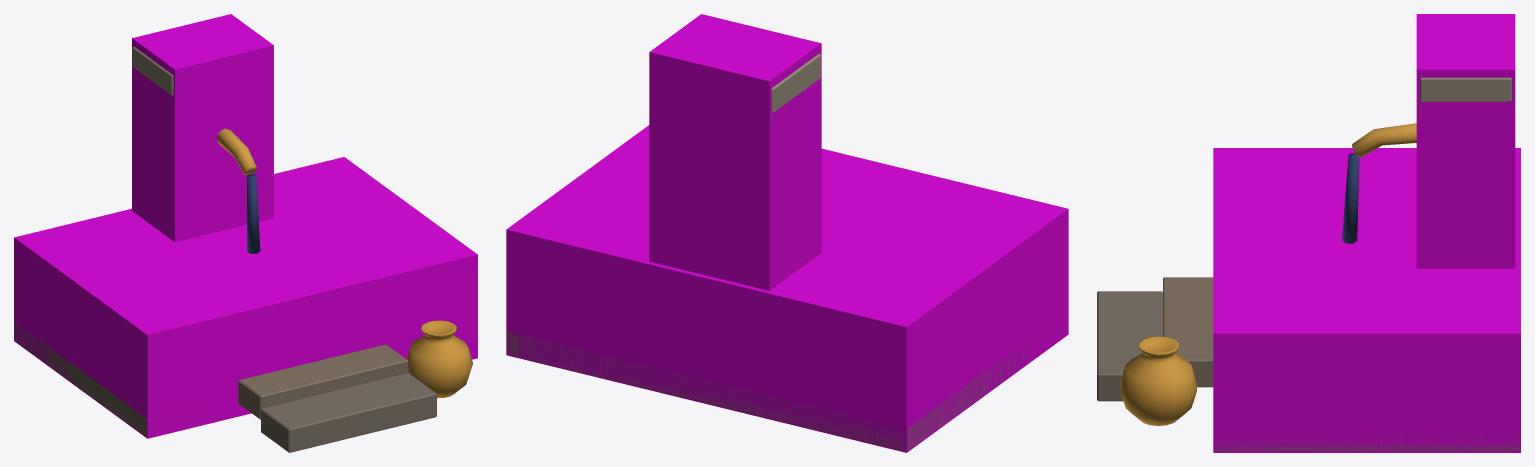
The model's file is PRP_Water_Point_A.glb.
3 views of the same model, side by side, from view 1: azimuth 30°, elevation 25°; view 2: azimuth 150°, elevation 25°; view 3: azimuth 270°, elevation 25° (orthographic). The views are drawn at different scales.
Visible parts, largest first — view 1: COL_Basin, COL_Spout, PRP_Water_Point_A_Mesh, WATER_Point; view 2: COL_Basin, COL_Spout, PRP_Water_Point_A_Mesh; view 3: COL_Basin, COL_Spout, PRP_Water_Point_A_Mesh, WATER_Point.
Boxes of the visible parts, left/top/right/bottom form: COL_Basin: left=14, top=157, right=477, bottom=438; COL_Spout: left=132, top=14, right=273, bottom=242; PRP_Water_Point_A_Mesh: left=14, top=46, right=472, bottom=452; WATER_Point: left=247, top=174, right=260, bottom=253; COL_Basin: left=506, top=125, right=1068, bottom=452; COL_Spout: left=649, top=14, right=821, bottom=290; PRP_Water_Point_A_Mesh: left=507, top=53, right=1042, bottom=450; COL_Basin: left=1213, top=148, right=1520, bottom=452; COL_Spout: left=1416, top=14, right=1515, bottom=268; PRP_Water_Point_A_Mesh: left=1097, top=77, right=1519, bottom=451; WATER_Point: left=1342, top=153, right=1359, bottom=243.
Size of the model in its own units: 2 by 1.61 by 1.93.
